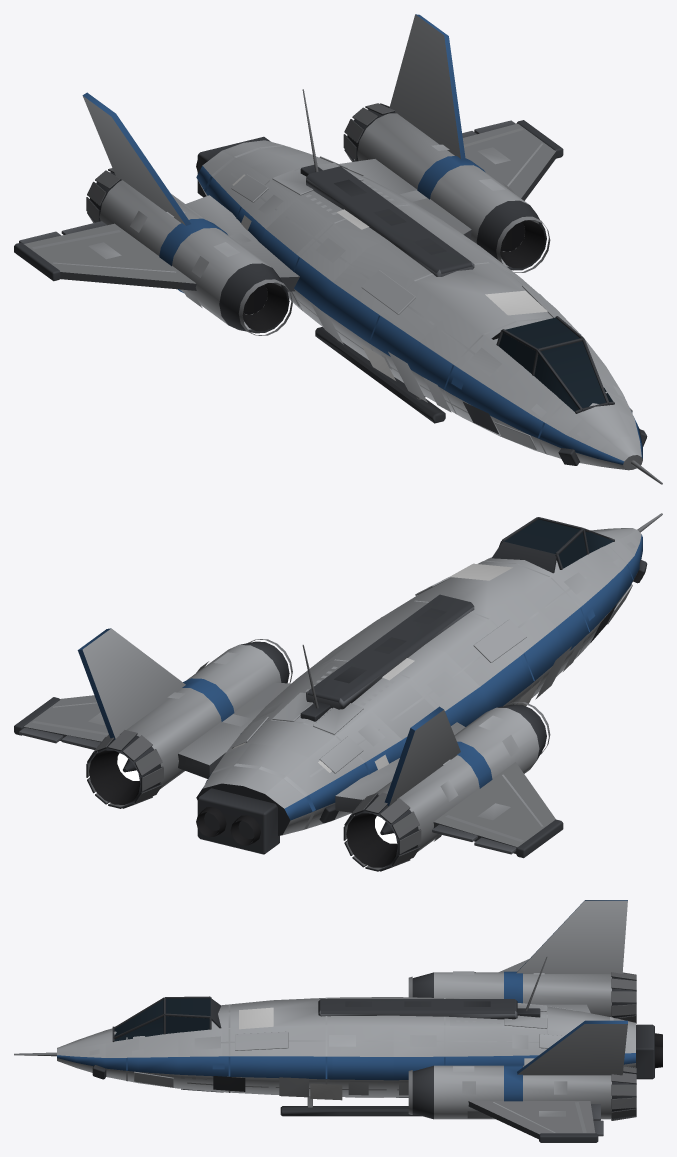
File: Testschiff.glb
The picture shows the model from 3 angles, top to bottom: view 1: azimuth 30°, elevation 25°; view 2: azimuth 150°, elevation 25°; view 3: azimuth 270°, elevation 25°; orthographic projection. The views are drawn at different scales.
Parts seen in each view (by area): view 1: Testschiff; view 2: Testschiff; view 3: Testschiff.
Boxes of the visible parts, <box> form: Testschiff: <box>14,14,662,484</box>; Testschiff: <box>14,513,662,871</box>; Testschiff: <box>14,900,662,1142</box>.
Bounding box in the file's own units: 16.3 × 5.86 × 24.1.
